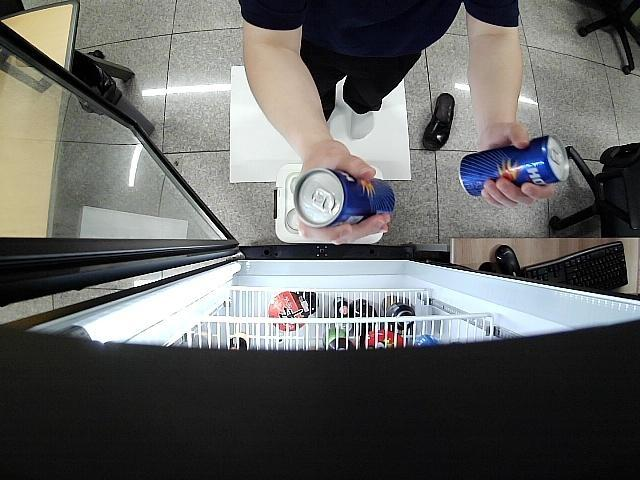16_hot6: (456, 134, 570, 198), (292, 168, 396, 228)
